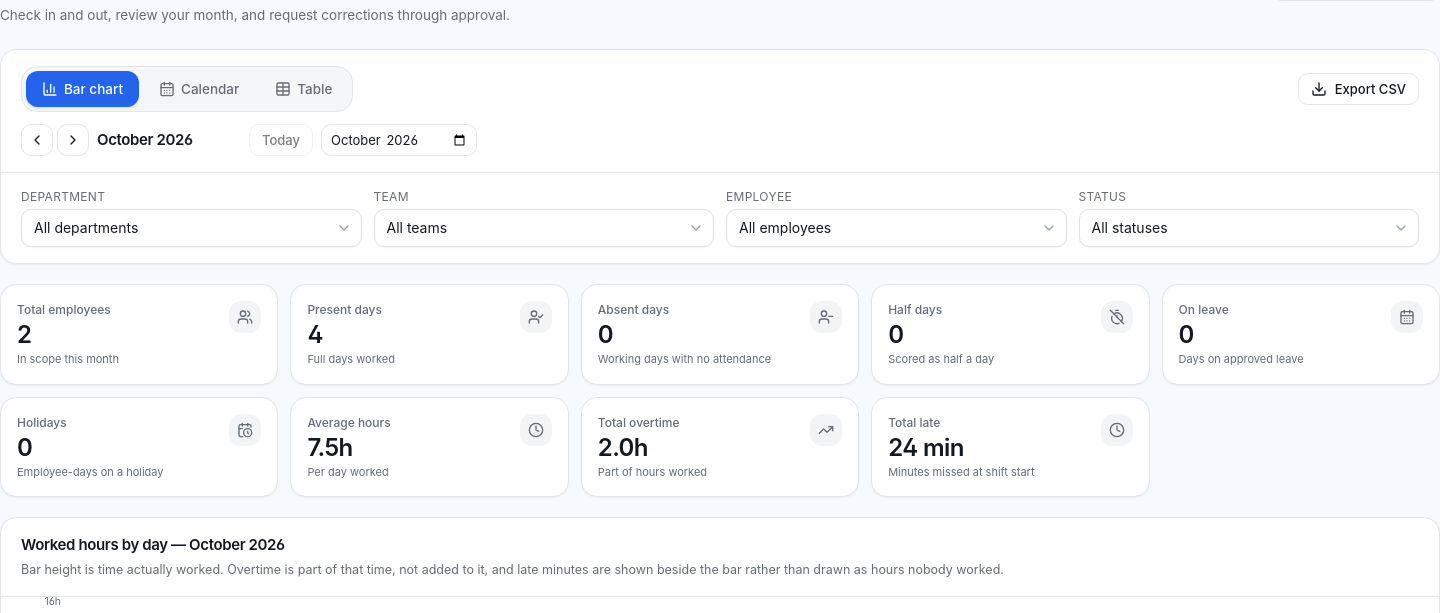
Test: the attendance view switcher › swaps the rendered view, not just the pressed button
The width and height of the screenshot is (1440, 613).
Click the button "Calendar" at (199, 89), box [143,71,255,107]
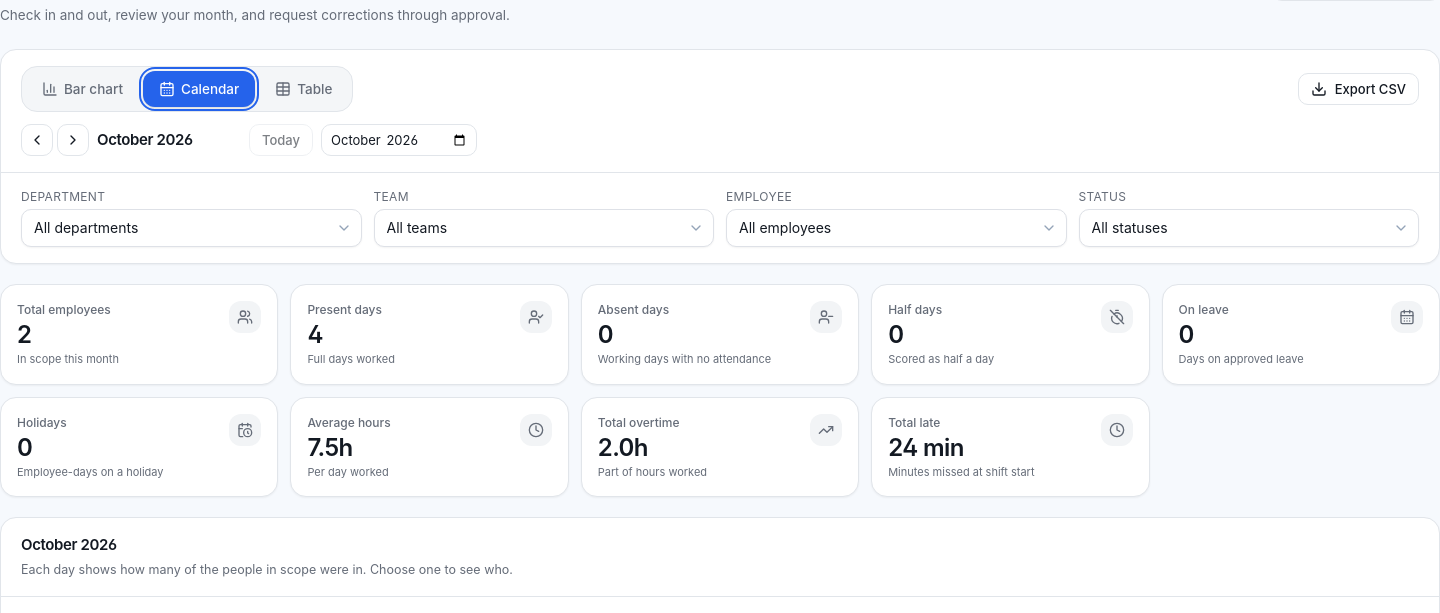
Click the button "Table" at (304, 89), box [259,71,348,107]
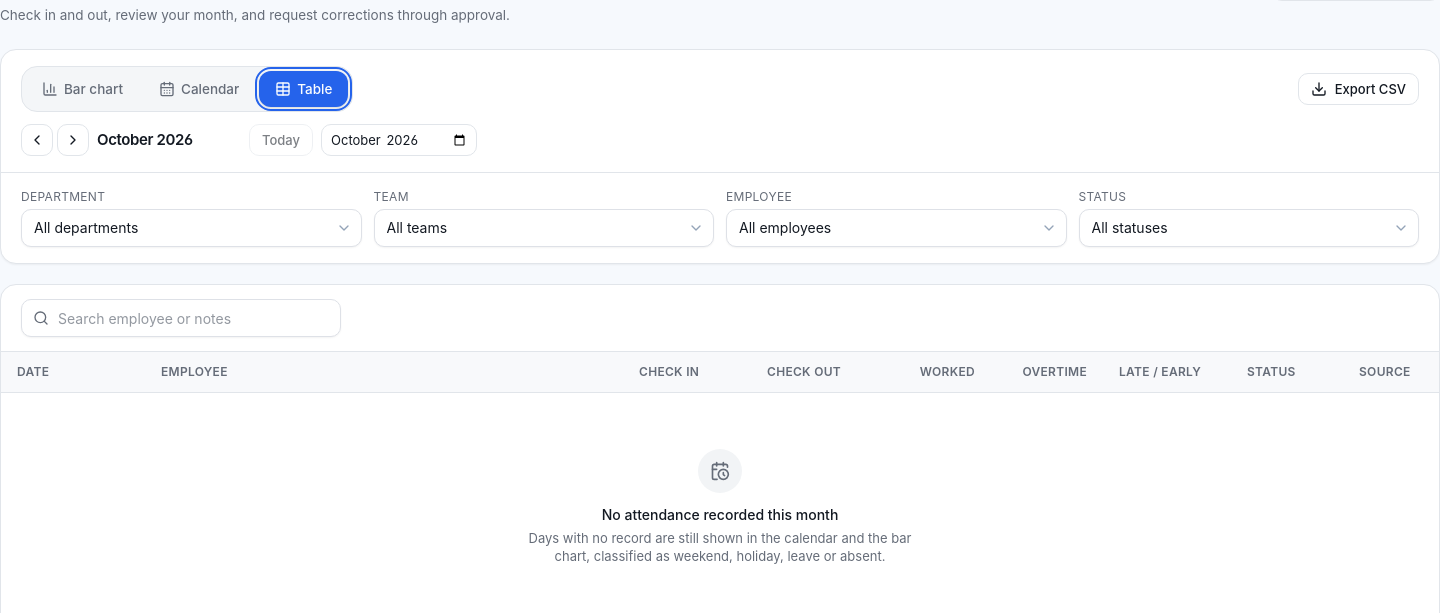
Result: the field labelled "Search employee or notes" is shown at [21,299,341,337]
Click the button "Bar chart" at (82, 89), box [26,71,139,107]
(page scrolled)
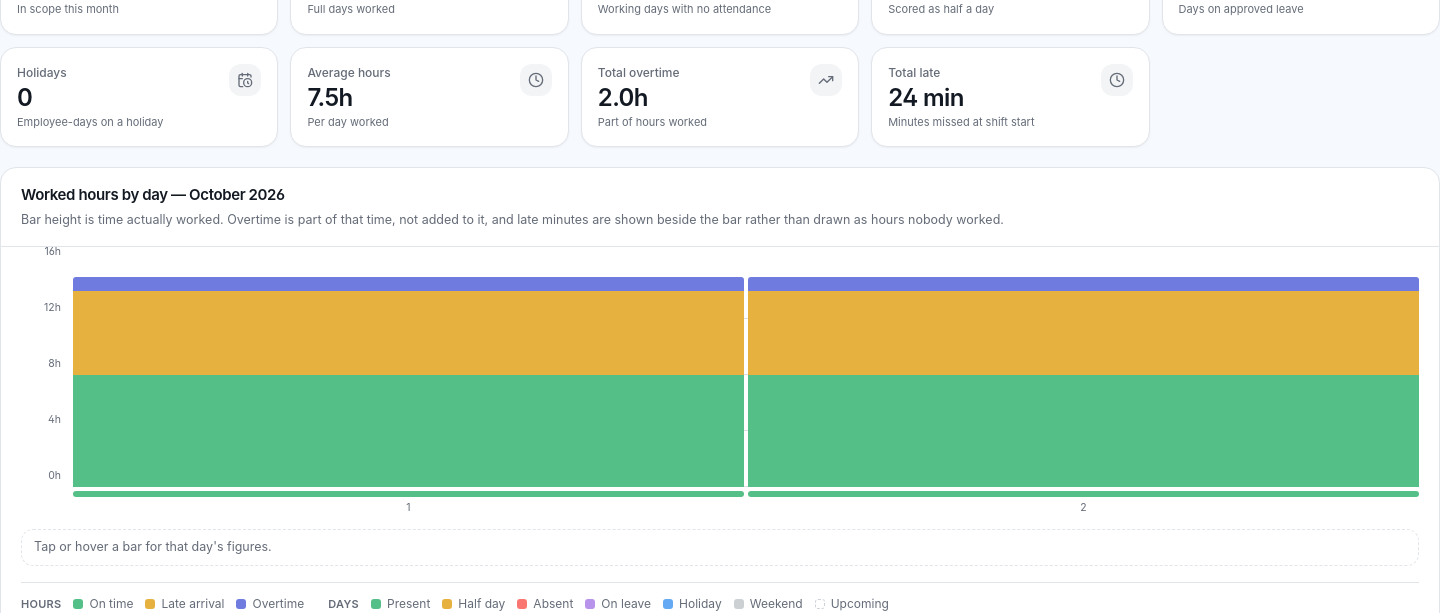
Result: the list named "Worked hours per day" is shown at [73,262,1419,486]
